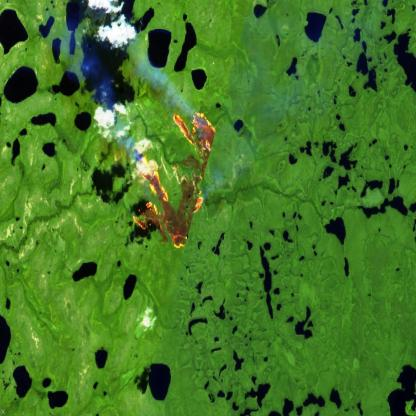fire: (128, 102, 217, 257)
